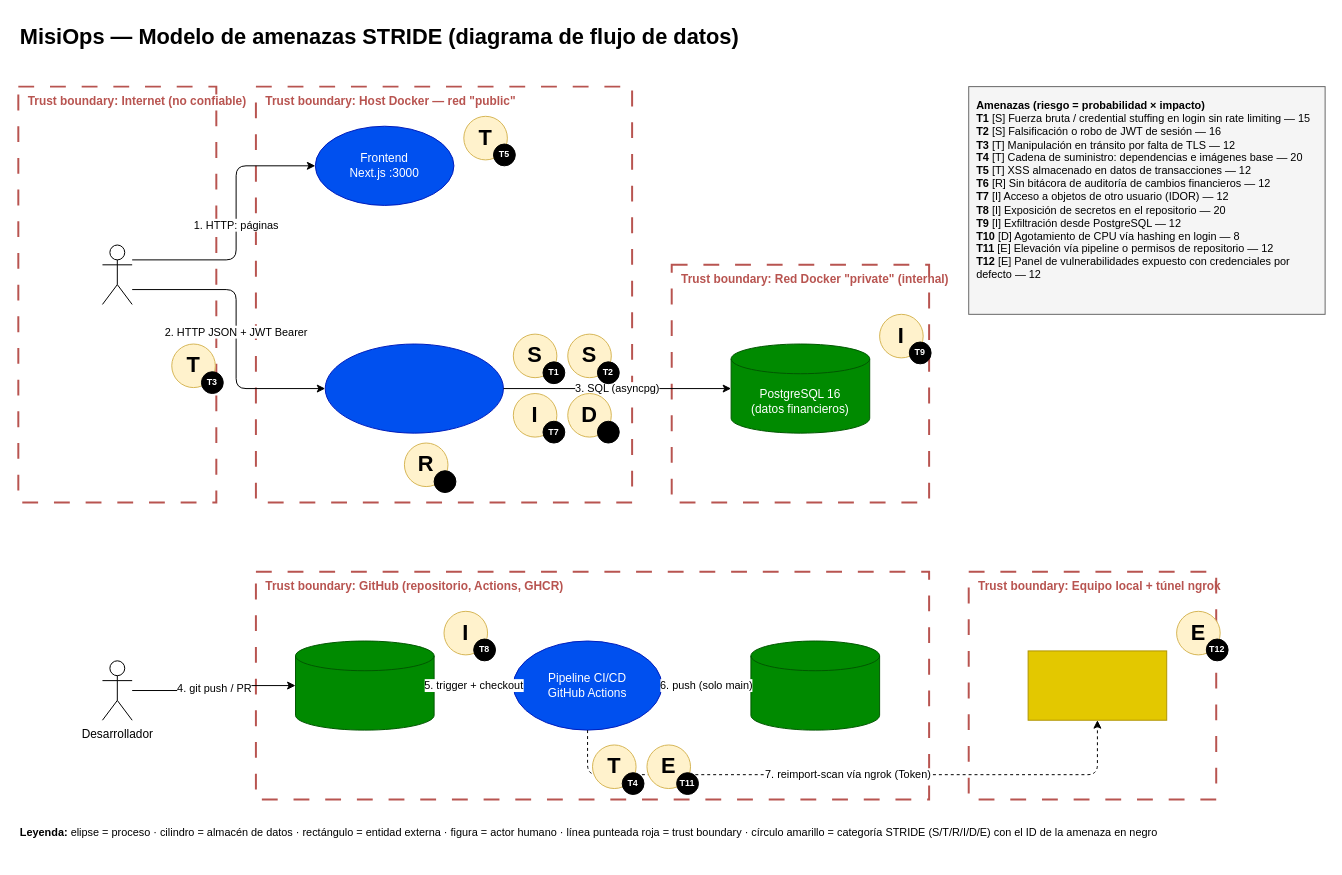
This 1342x875 diagram has some shape labels left out. Each missing label, with the centre of its shape:
Backend FastAPI :8000 (API REST + Auth JWT): [413,388]
DefectDojo (admin/admin): [1097,685]
GHCR (imágenes): [815,685]
Repositorio GitHub + secretos CI: [364,685]
T10: [607,431]
T6: [444,481]
Usuario (navegador): [116,274]
